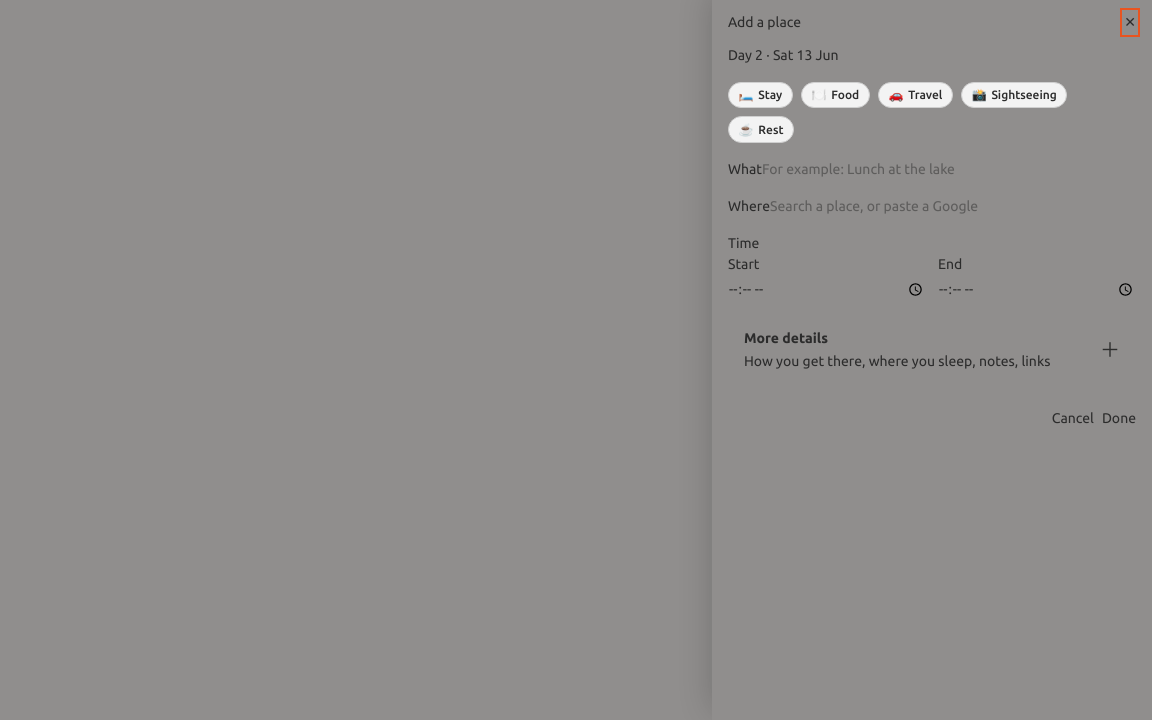
Test: PlannerAddStopComponent (quick add) › asks for "What" instead of saving an empty stop
What coordinates should you click on to do the following:
click the button with test id "stop-done"
I would click on:
 (1119, 418)
Its box is left=1102, top=408, right=1136, bottom=429.
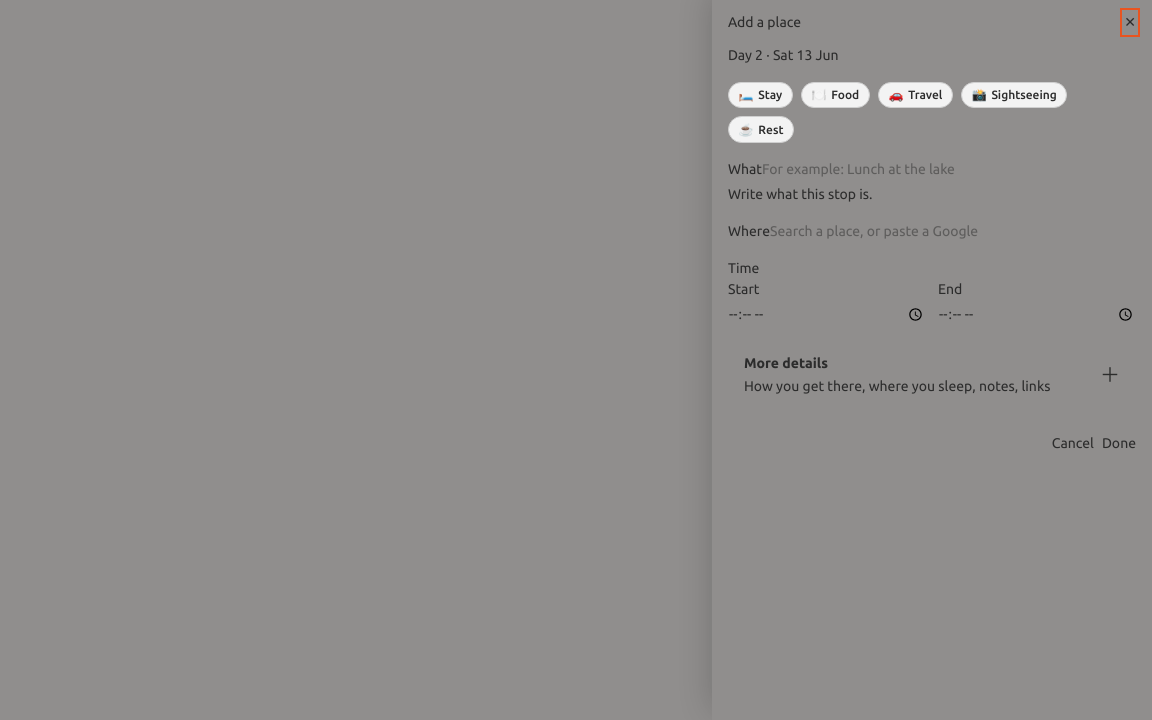
Now the text "Write what this stop is." is shown, box left=728, top=186, right=872, bottom=202
